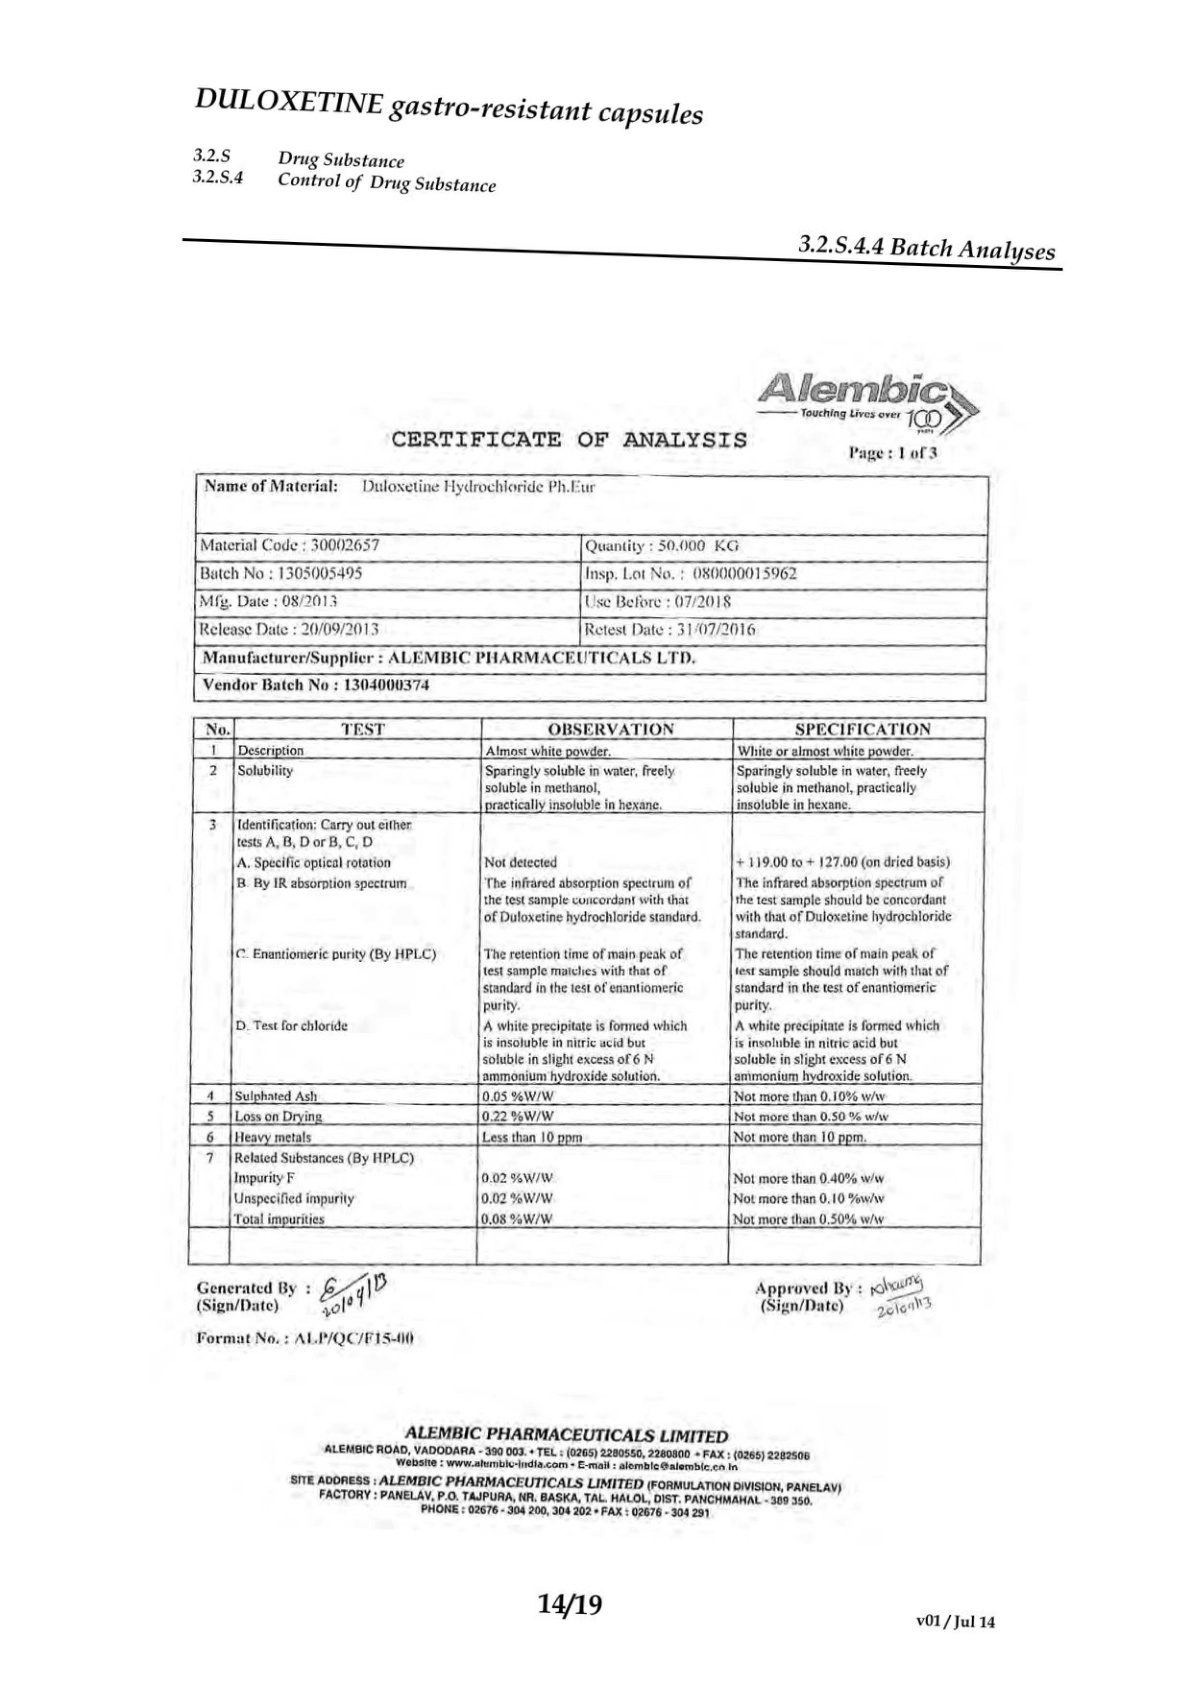full_lined: (184, 714, 989, 1268)
merged_cells: (192, 473, 991, 705)
